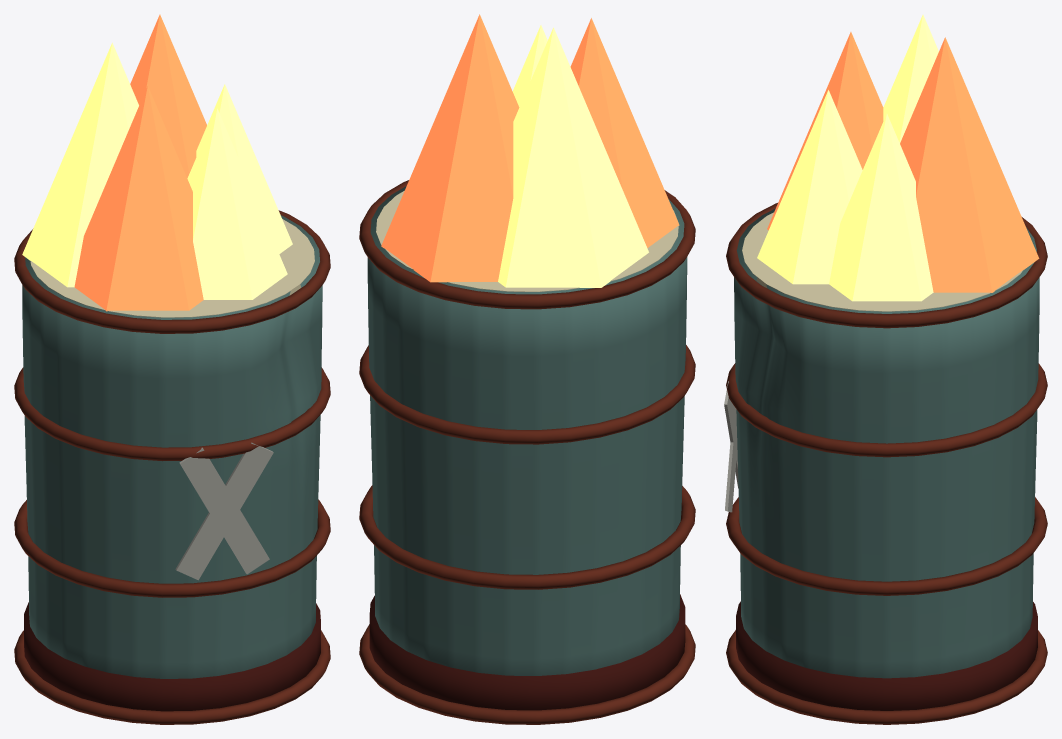
File: cover_light_oil_drum.glb
3 views of the same model, side by side, from view 1: azimuth 30°, elevation 25°; view 2: azimuth 150°, elevation 25°; view 3: azimuth 270°, elevation 25° (orthographic). The views are drawn at different scales.
Parts seen in each view (by area): view 1: drum_body, flame_3, flame_4, flame_2, base_grime, rim_top, hoop_low, flame_1, rim_bottom, hoop_high, lid, tape_32 (+2 smaller); view 2: drum_body, flame_2, flame_1, base_grime, flame_3, rim_top, hoop_low, rim_bottom, hoop_high, lid, flame_4; view 3: drum_body, flame_1, flame_0, base_grime, flame_4, rim_top, hoop_low, rim_bottom, hoop_high, flame_3, lid, flame_2 (+2 smaller).
Boxes of the visible parts, bbox=[...] form: drum_body: bbox=[22, 215, 322, 678]; flame_3: bbox=[74, 86, 203, 311]; flame_4: bbox=[187, 108, 287, 299]; flame_2: bbox=[22, 42, 138, 287]; base_grime: bbox=[24, 602, 320, 711]; rim_top: bbox=[14, 210, 330, 333]; hoop_low: bbox=[14, 499, 330, 597]; flame_1: bbox=[130, 14, 206, 178]; rim_bottom: bbox=[14, 630, 330, 724]; hoop_high: bbox=[14, 367, 330, 461]; lid: bbox=[30, 219, 314, 317]; tape_32: bbox=[175, 442, 273, 580]; drum_body: bbox=[367, 186, 687, 675]; flame_2: bbox=[498, 27, 648, 287]; flame_1: bbox=[381, 14, 519, 282]; base_grime: bbox=[369, 594, 685, 710]; flame_3: bbox=[570, 18, 679, 247]; rim_top: bbox=[359, 180, 695, 309]; hoop_low: bbox=[359, 485, 695, 589]; rim_bottom: bbox=[359, 624, 695, 724]; hoop_high: bbox=[359, 345, 695, 444]; lid: bbox=[376, 191, 678, 291]; flame_4: bbox=[512, 25, 547, 106]; drum_body: bbox=[734, 208, 1039, 678]; flame_1: bbox=[900, 37, 1039, 292]; flame_0: bbox=[829, 113, 933, 301]; base_grime: bbox=[736, 601, 1037, 710]; flame_4: bbox=[757, 90, 862, 284]; rim_top: bbox=[726, 203, 1047, 328]; hoop_low: bbox=[726, 497, 1047, 595]; rim_bottom: bbox=[726, 630, 1047, 724]; hoop_high: bbox=[726, 363, 1047, 457]; flame_3: bbox=[767, 32, 883, 230]; lid: bbox=[742, 212, 1023, 311]; flame_2: bbox=[883, 14, 938, 143].
Bounding box in the file's own units: 0.6295 × 1.36 × 0.6332.
